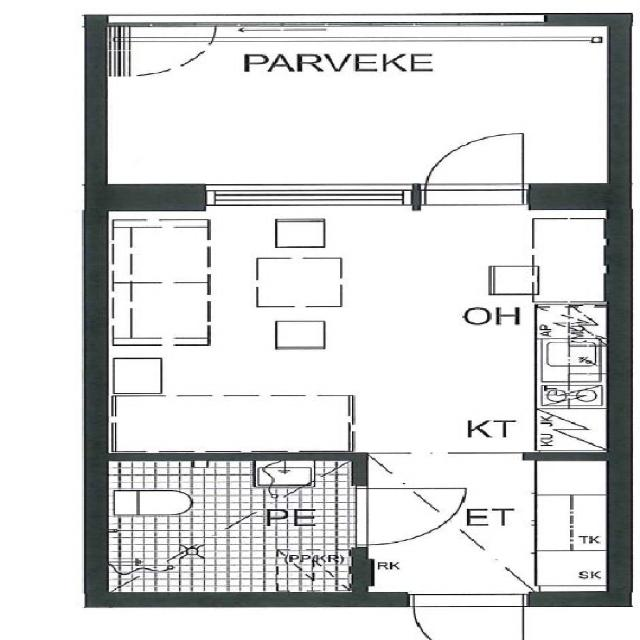door: (424, 128, 523, 210), (352, 488, 466, 544), (413, 592, 522, 640)
